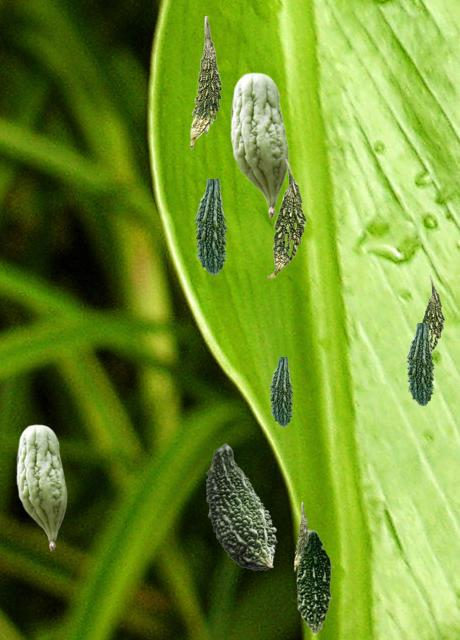ampalaya: (206, 443, 276, 569), (230, 72, 288, 217), (16, 424, 66, 550), (267, 158, 306, 277), (190, 16, 221, 148), (296, 528, 333, 634), (194, 179, 226, 273), (406, 323, 433, 404), (421, 274, 444, 351), (269, 357, 292, 425), (294, 502, 308, 570)
